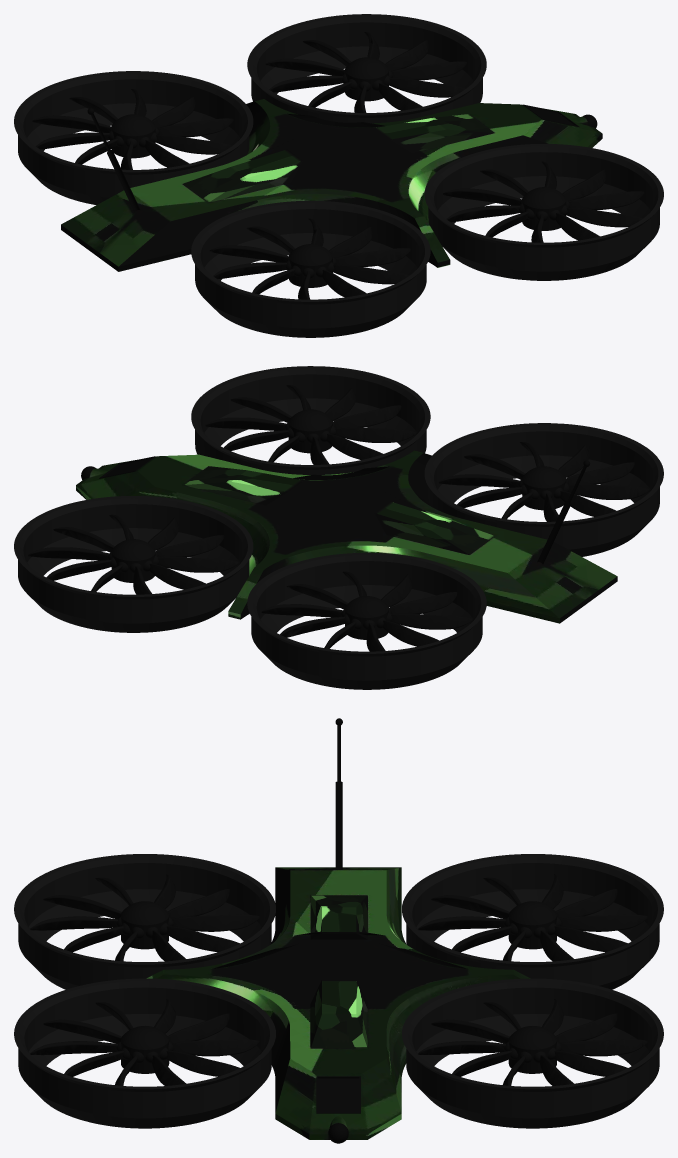
File: parrot-camo-drone.glb
3 renders of one model, top to bottom at view 1: azimuth 30°, elevation 25°; view 2: azimuth 150°, elevation 25°; view 3: azimuth 270°, elevation 25°, orthographic. The views are drawn at different scales.
Parts seen in each view (by area): view 1: Object_17, Object_18, Object_5, Object_9, Object_4; view 2: Object_17, Object_18, Object_5, Object_9, Object_4; view 3: Object_17, Object_18, Object_5, Object_9, Object_4.
Part boxes in pixels (box(x1,y1,x2,y2)): Object_17: box(14, 14, 663, 337); Object_18: box(32, 32, 644, 299); Object_5: box(61, 99, 602, 271); Object_9: box(182, 114, 494, 202); Object_4: box(87, 104, 597, 212); Object_17: box(14, 366, 663, 689); Object_18: box(28, 385, 649, 651); Object_5: box(76, 450, 617, 623); Object_9: box(183, 466, 495, 554); Object_4: box(81, 456, 590, 564); Object_17: box(14, 854, 663, 1128); Object_18: box(30, 874, 647, 1085); Object_5: box(146, 867, 530, 1139); Object_9: box(310, 895, 367, 1048); Object_4: box(212, 718, 467, 1143).
Size of the model in its own units: 16.43 by 4.75 by 16.64.
Materials: 5 (2 with a texture image).
